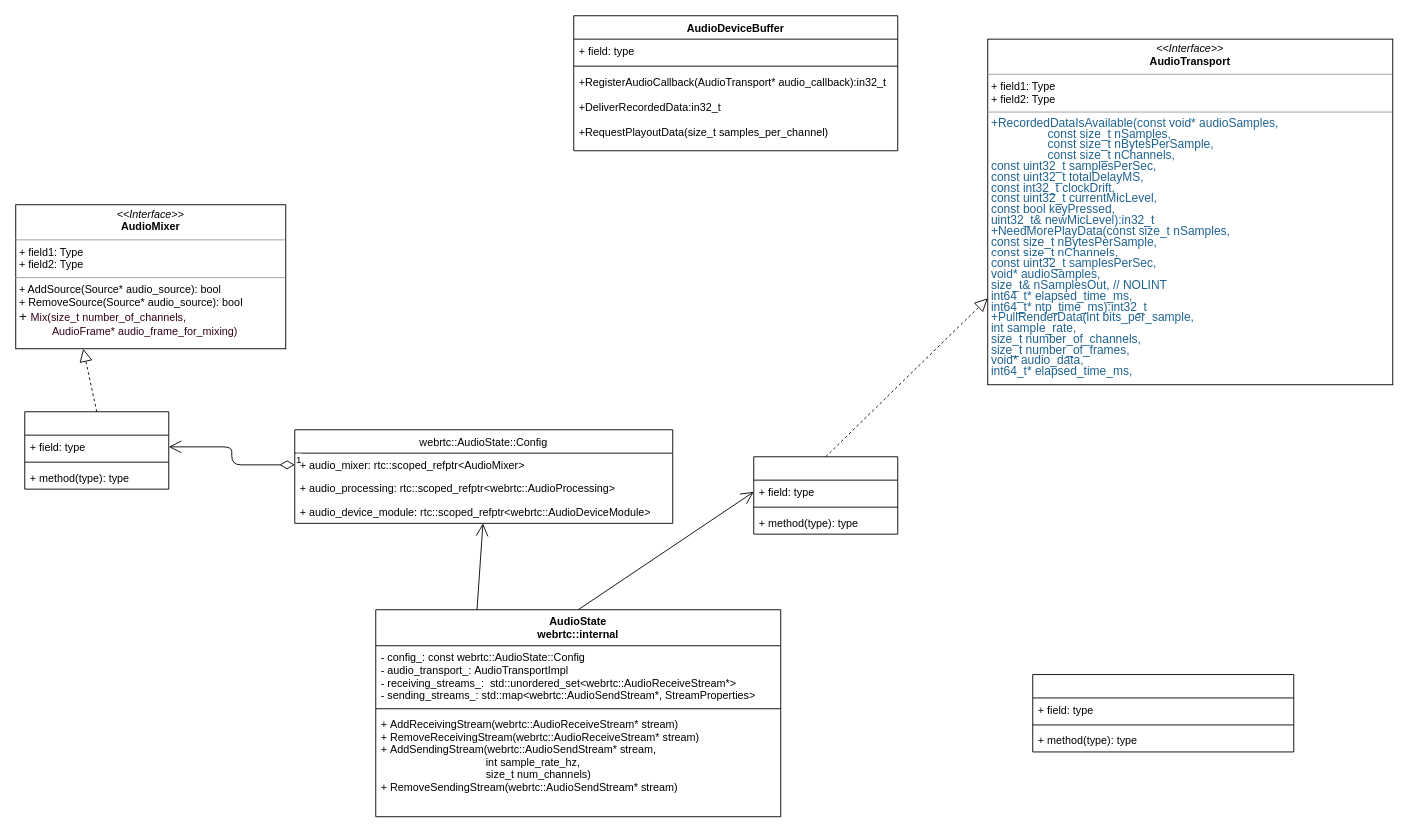
The diagram is 1409 pixels wide and 835 high, and some of its shapes have lost their labels. The shapes that lost their labels are listed below. From the top down, each one's box as (x1, y1, x2, y2) in pixels, then its label:
(24, 411, 169, 489): AudioMixerImpl
(753, 456, 898, 534): AudioTransportImpl
(1032, 674, 1294, 752): webrtc::internal::AudioReceiveStream
